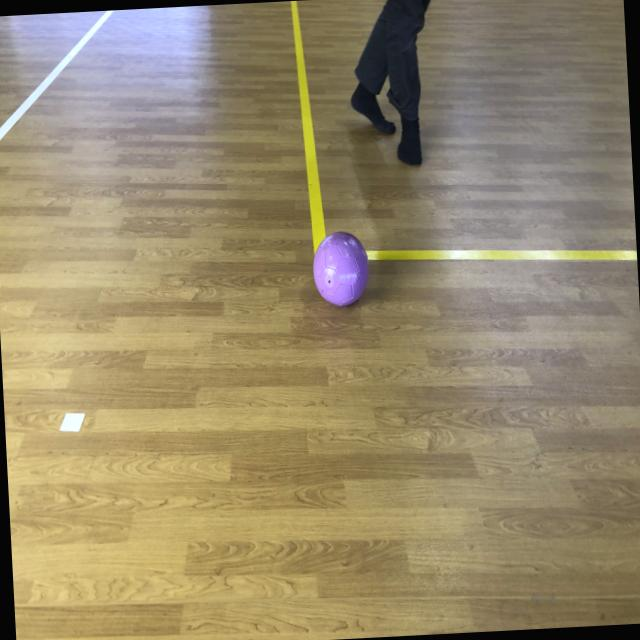purple_ball: (310, 228, 370, 308)
